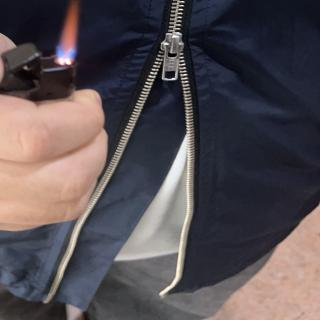fire: (54, 0, 82, 64)
